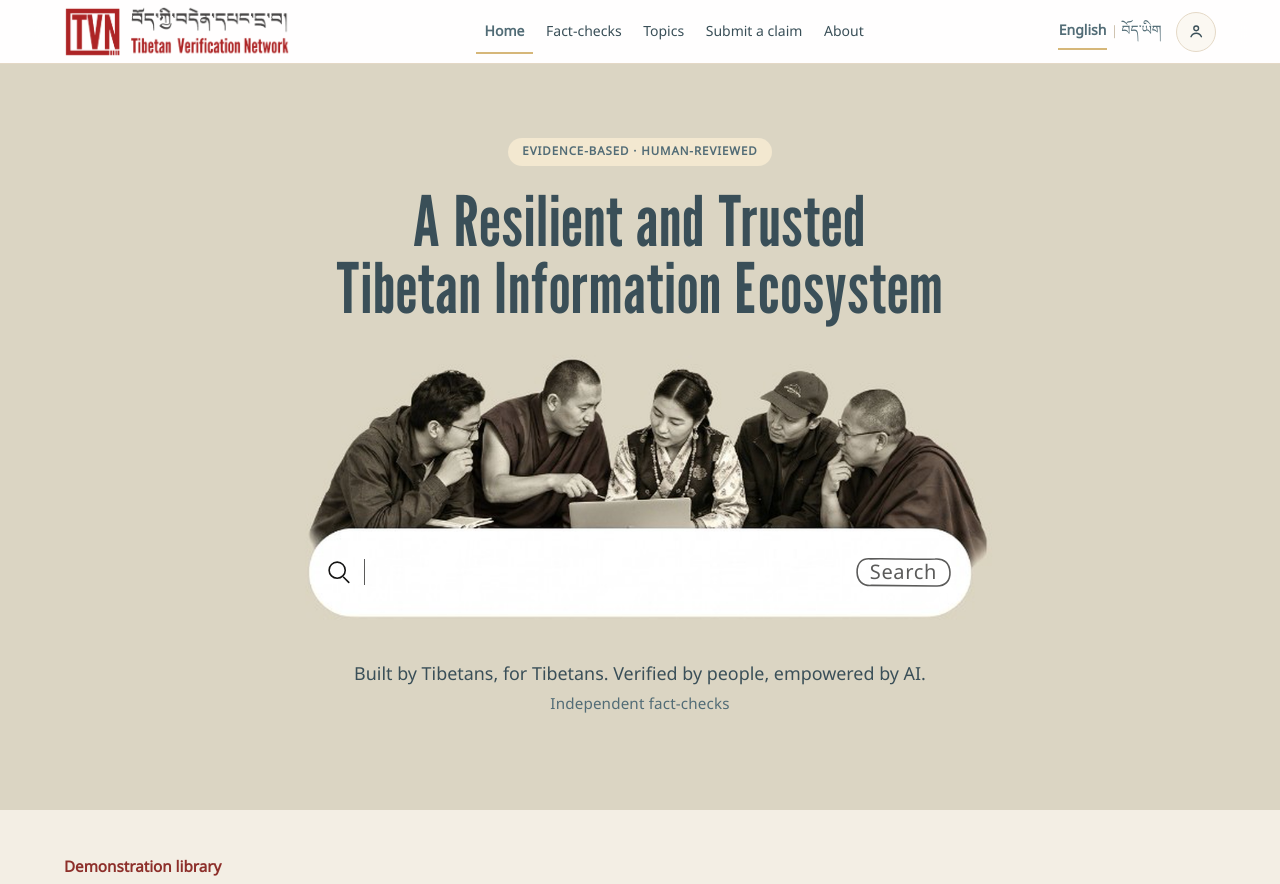
Test: home page › goes to the search page with the typed query
Type "river" into the search field named "Search fact-checks" at (602, 572), box x1=360 y1=530 x2=845 y2=614
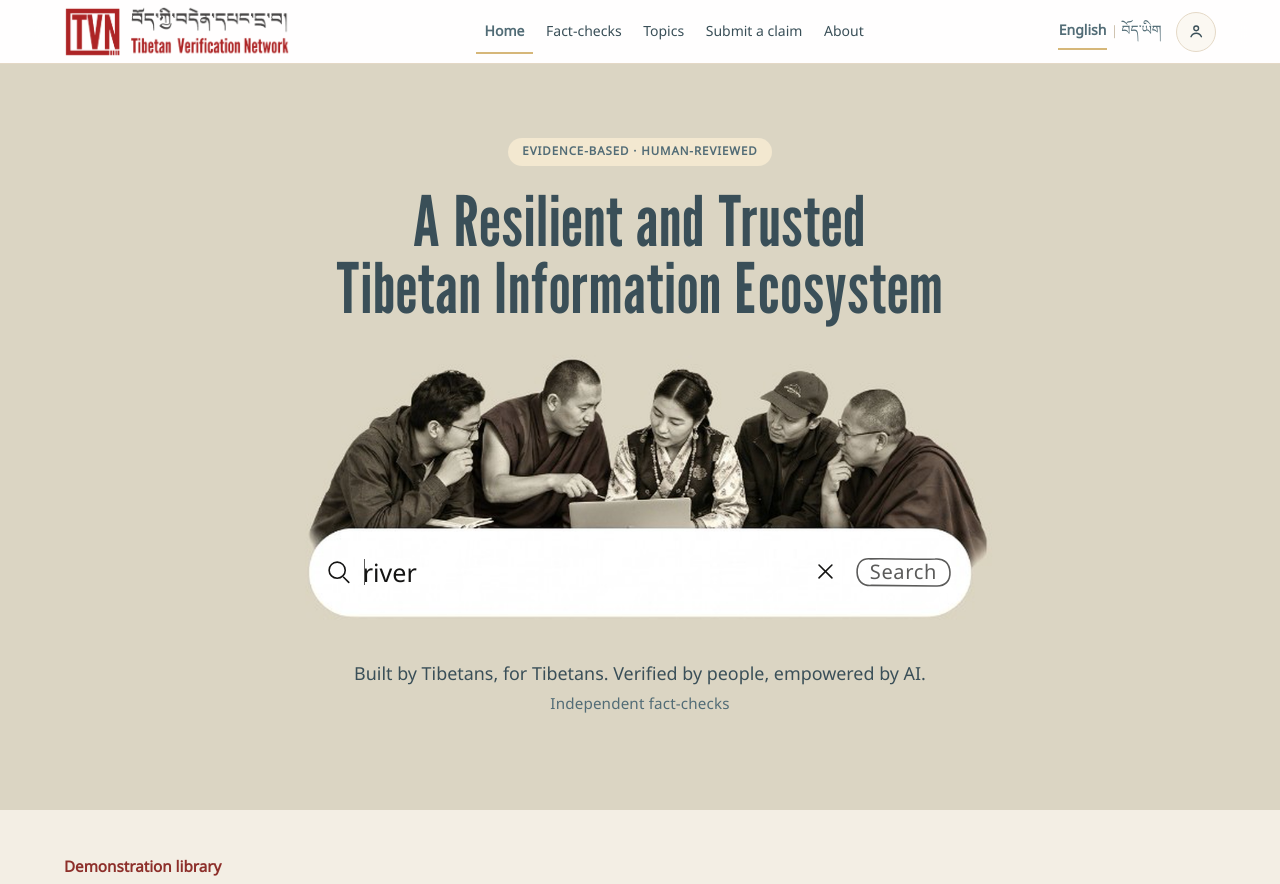
Click the button "Search" at (903, 572), box x1=853 y1=538 x2=954 y2=606
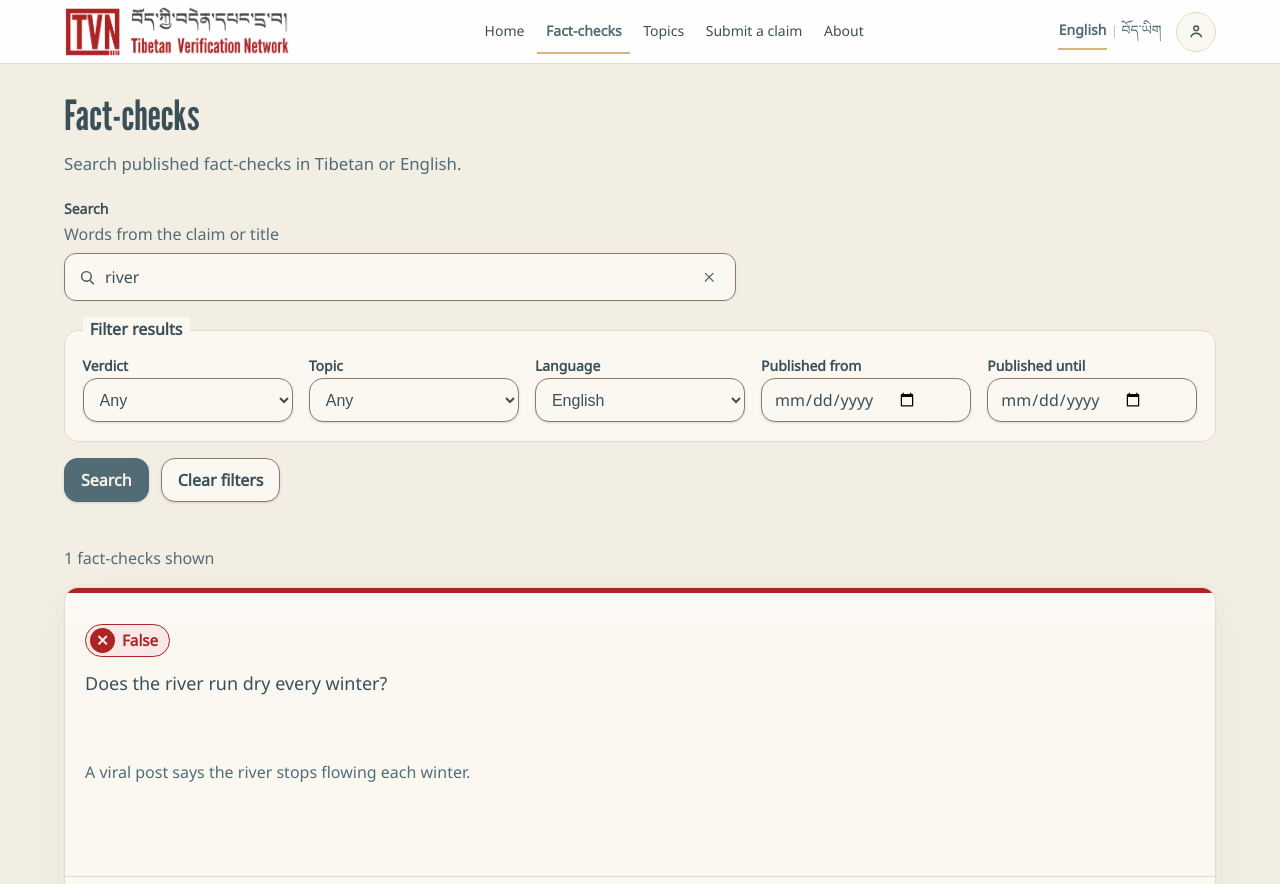
Check: the heading "Fact-checks" is shown, box x1=64 y1=90 x2=200 y2=140
